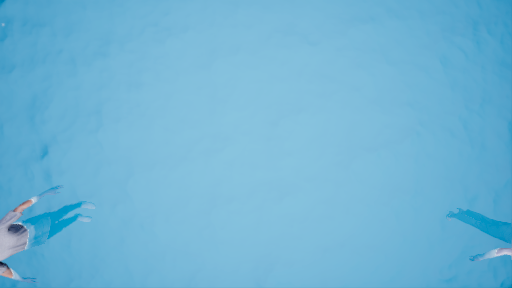person: (2, 186, 103, 278)
